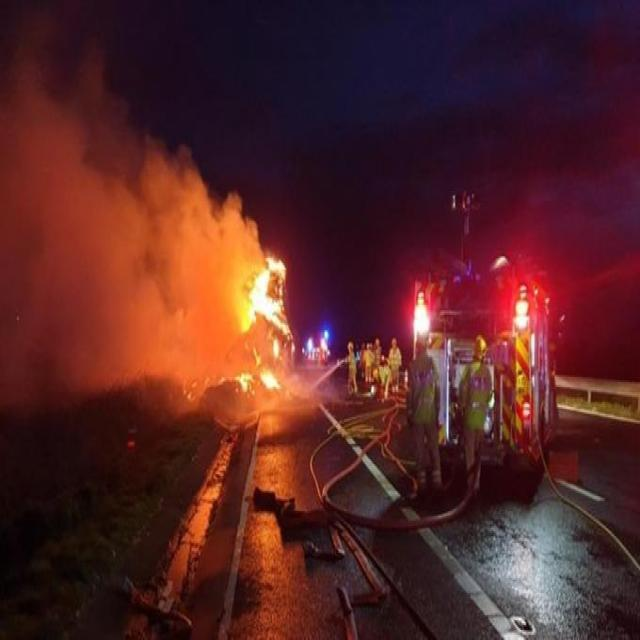fire: (227, 241, 299, 404)
other: (502, 266, 553, 355), (409, 273, 433, 349), (302, 312, 338, 362)
smoke: (0, 76, 238, 398)
